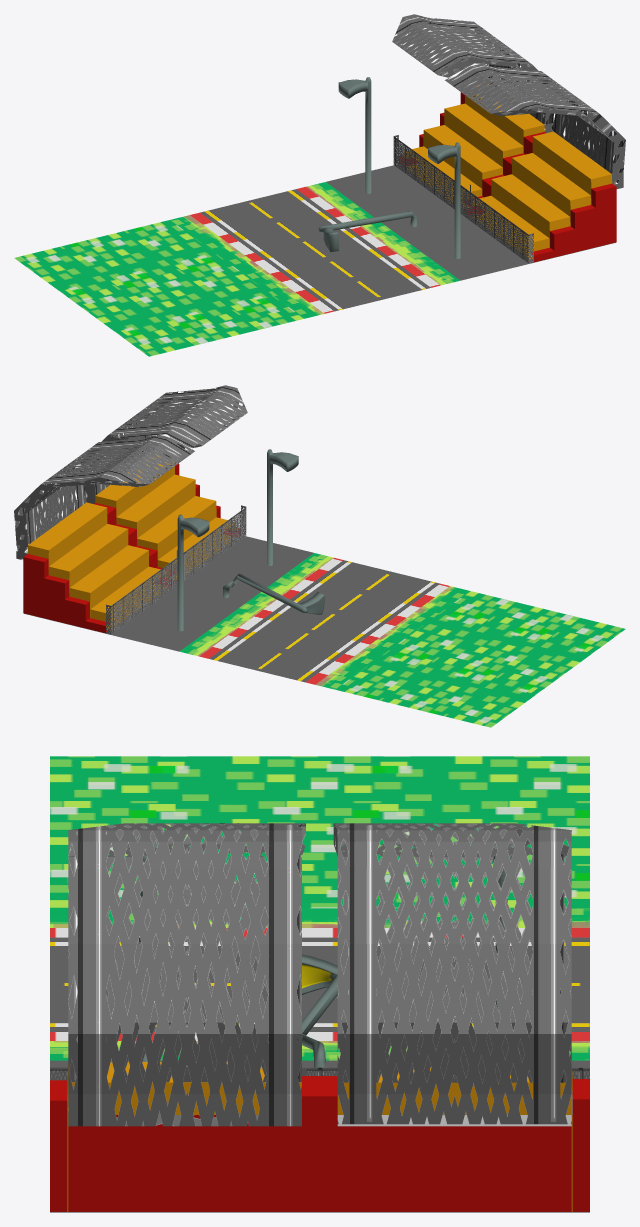
File: BrokenMapa.fbx
3 renders of one model, top to bottom at view 1: azimuth 30°, elevation 25°; view 2: azimuth 150°, elevation 25°; view 3: azimuth 270°, elevation 25°, orthographic. The views are drawn at different scales.
Parts seen in each view (by area): view 1: Asientos.002, Plane.006, Plane.008, Plane.007, Cylinder.002; view 2: Asientos.002, Plane.006, Plane.008, Plane.007, Cylinder.002; view 3: Asientos.002, Plane.006, Plane.008, Cylinder.002, Plane.007.
Part boxes in pixels (<box>): Asientos.002: <box>392,14,625,263</box>; Plane.006: <box>14,220,304,356</box>; Plane.008: <box>170,182,459,318</box>; Plane.007: <box>326,164,615,280</box>; Cylinder.002: <box>318,77,460,259</box>; Asientos.002: <box>14,385,247,634</box>; Plane.006: <box>335,591,625,727</box>; Plane.008: <box>180,553,469,689</box>; Plane.007: <box>24,536,313,651</box>; Cylinder.002: <box>177,449,324,631</box>; Asientos.002: <box>50,823,589,1211</box>; Plane.006: <box>50,756,589,908</box>; Plane.008: <box>50,908,589,1060</box>; Cylinder.002: <box>127,836,514,1075</box>; Plane.007: <box>50,1060,589,1212</box>.
Bounding box in the file's own units: 6180 × 1845 × 3000.
8 materials, 3 textured.
